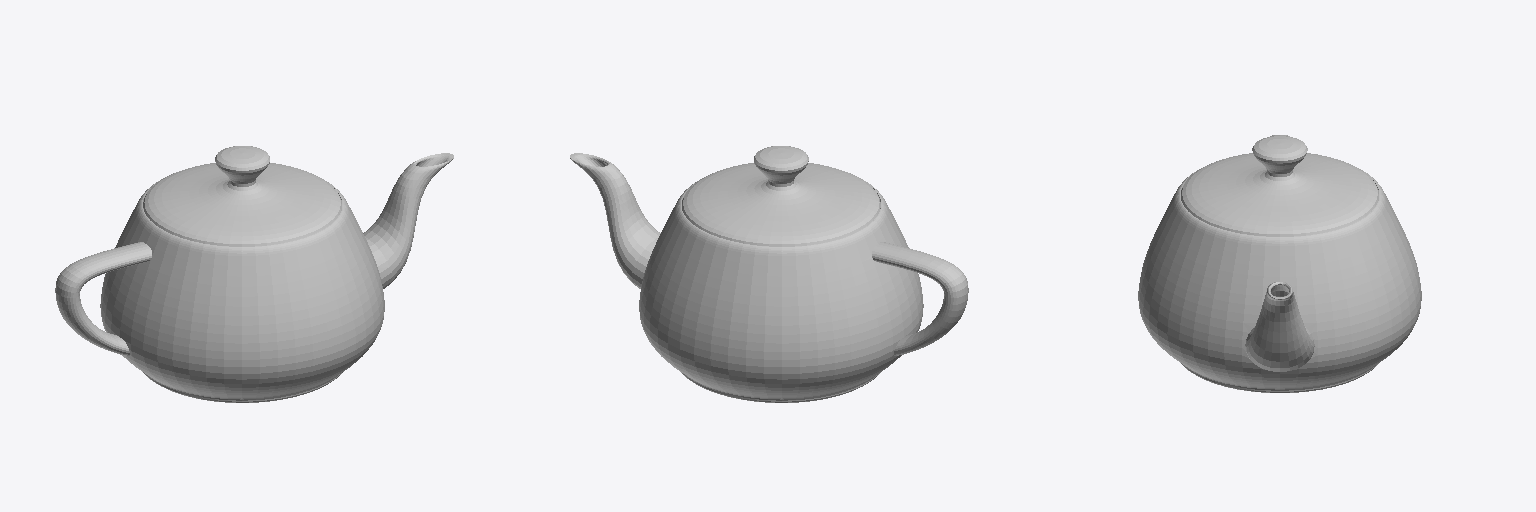
File: teapot_mod.obj
3 renders of one model, left to right at view 1: azimuth 30°, elevation 25°; view 2: azimuth 150°, elevation 25°; view 3: azimuth 270°, elevation 25°, orthographic.
Parts seen in each view (by area): view 1: teapot:Base, teapot:Top; view 2: teapot:Base, teapot:Top; view 3: teapot:Base, teapot:Top.
Boxes of the visible parts, <box> form: teapot:Base: <box>55,153,453,402</box>; teapot:Top: <box>143,146,341,246</box>; teapot:Base: <box>570,153,968,402</box>; teapot:Top: <box>682,146,880,246</box>; teapot:Base: <box>1138,135,1421,392</box>; teapot:Top: <box>1181,136,1378,236</box>.
Size of the model in its own units: 154 by 79.01 by 95.86.